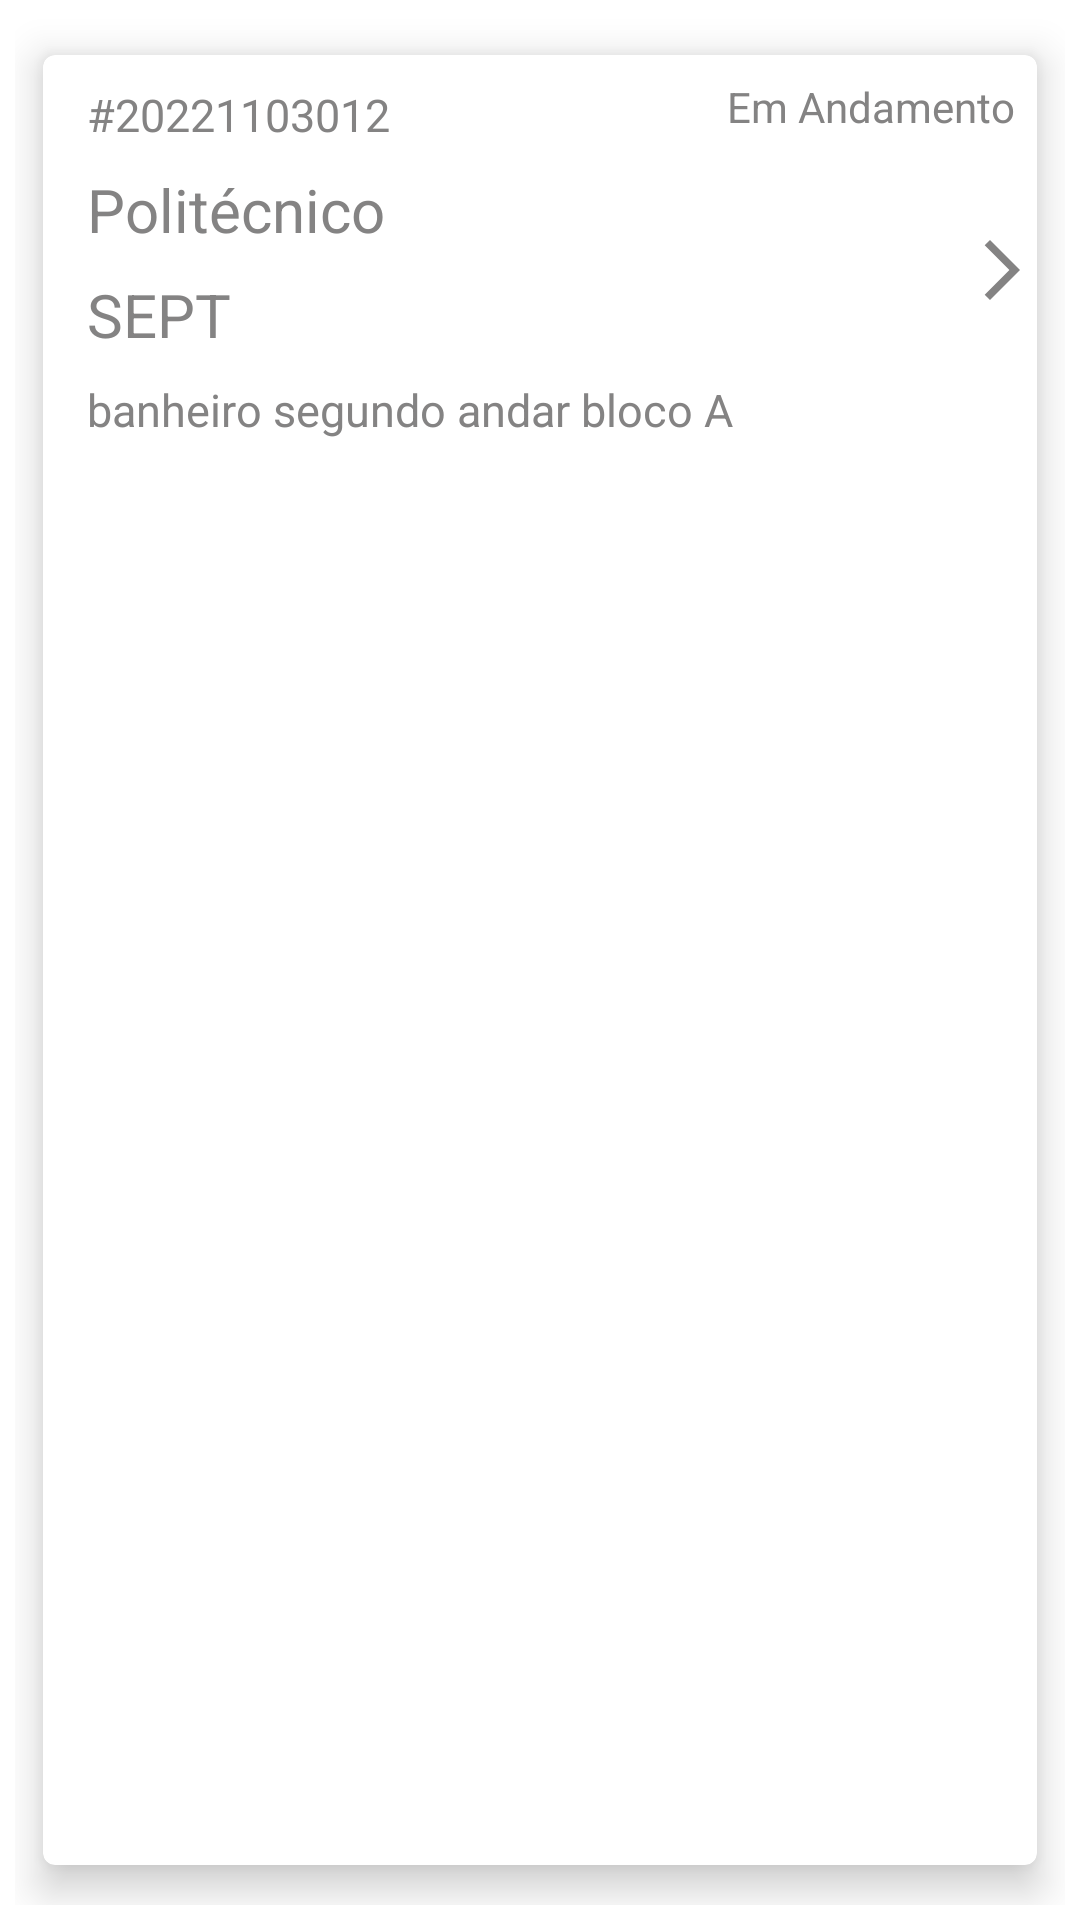

Icon click points for this 1080px x 1920px phone screenshot, format (x,y):
seta open: (1002,270)
